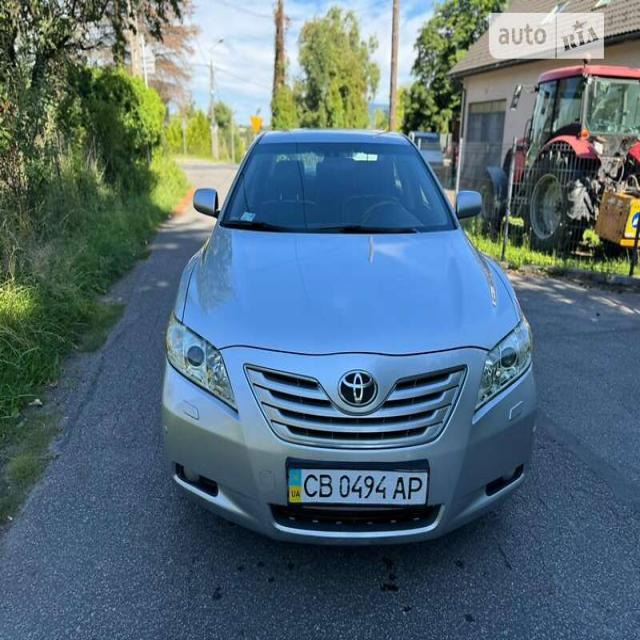plate: (286, 457, 431, 517)
